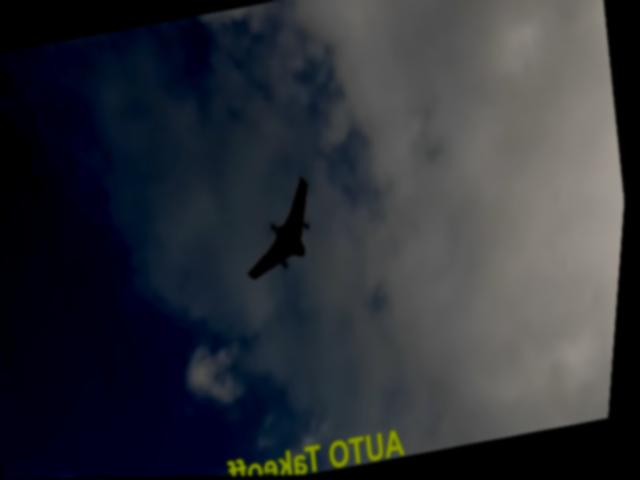plane: (238, 179, 325, 282)
